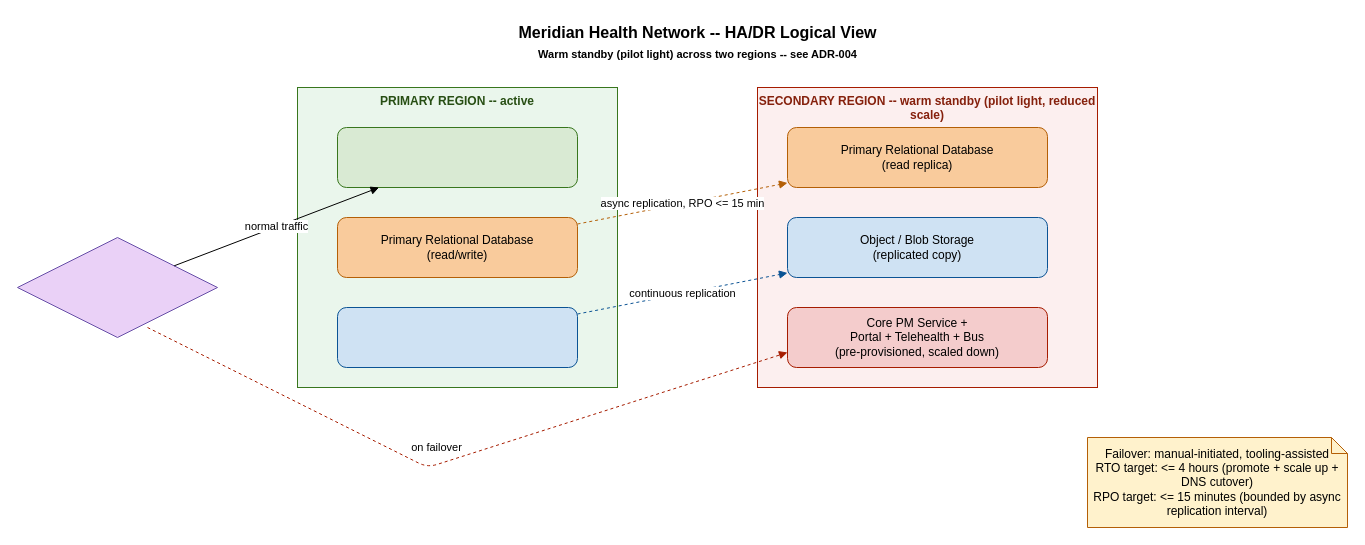
Image size: 1365x545. Some labels were removed from this diagram. Here are the shapes that lost their labels. From the top down, the centre of each, then its label:
pixel 457 157: Core PM Service + Portal + Telehealth + Bus (full scale)
pixel 117 287: DNS / Traffic Routing (manual-initiated cutover)
pixel 457 337: Object / Blob Storage
